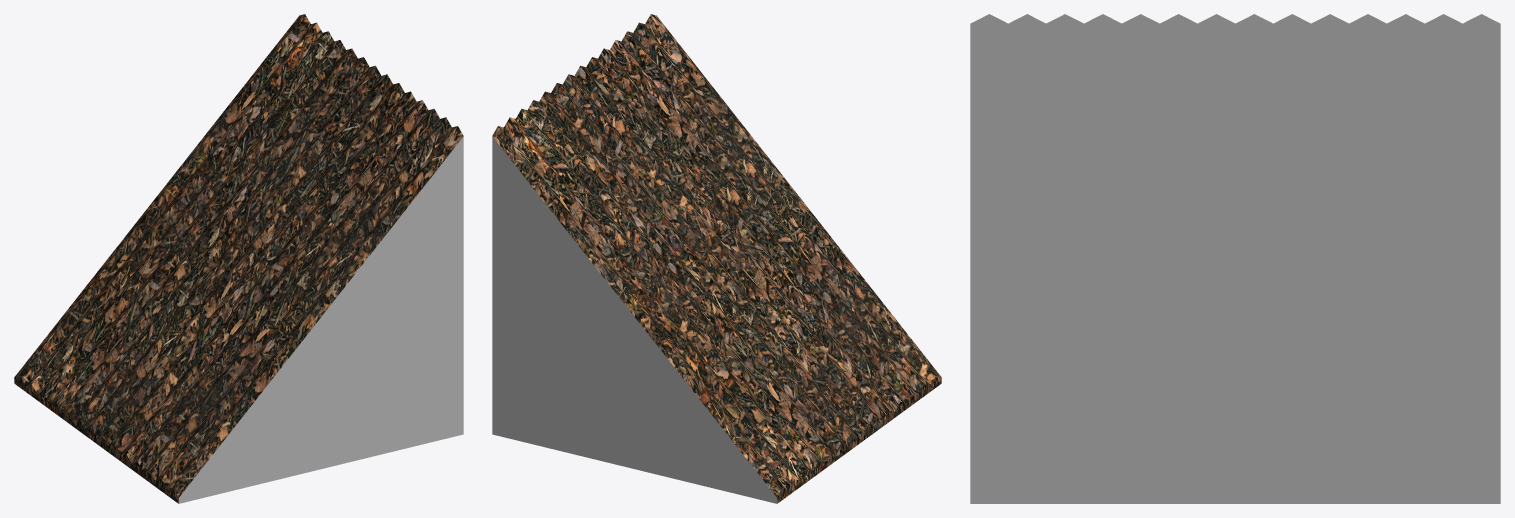
File: SM_SlantedRoof-1.fbx
The picture shows the model from 3 angles, left to right: view 1: azimuth 30°, elevation 25°; view 2: azimuth 150°, elevation 25°; view 3: azimuth 270°, elevation 25°; orthographic projection. The views are drawn at different scales.
Visible parts, largest first — view 1: SM_SlantedRoof-1_LOD0; view 2: SM_SlantedRoof-1_LOD0; view 3: SM_SlantedRoof-1_LOD0.
Part boxes in pixels (x1=…): SM_SlantedRoof-1_LOD0: x1=14, y1=14, x2=463, y2=503; SM_SlantedRoof-1_LOD0: x1=492, y1=14, x2=941, y2=503; SM_SlantedRoof-1_LOD0: x1=970, y1=14, x2=1500, y2=503.
Bounding box in the file's own units: 500 × 500 × 510.
